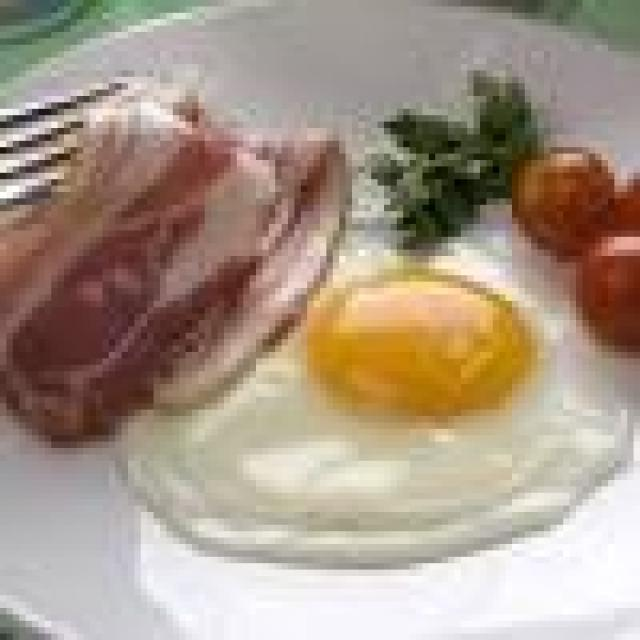bacon: (0, 85, 290, 420)
